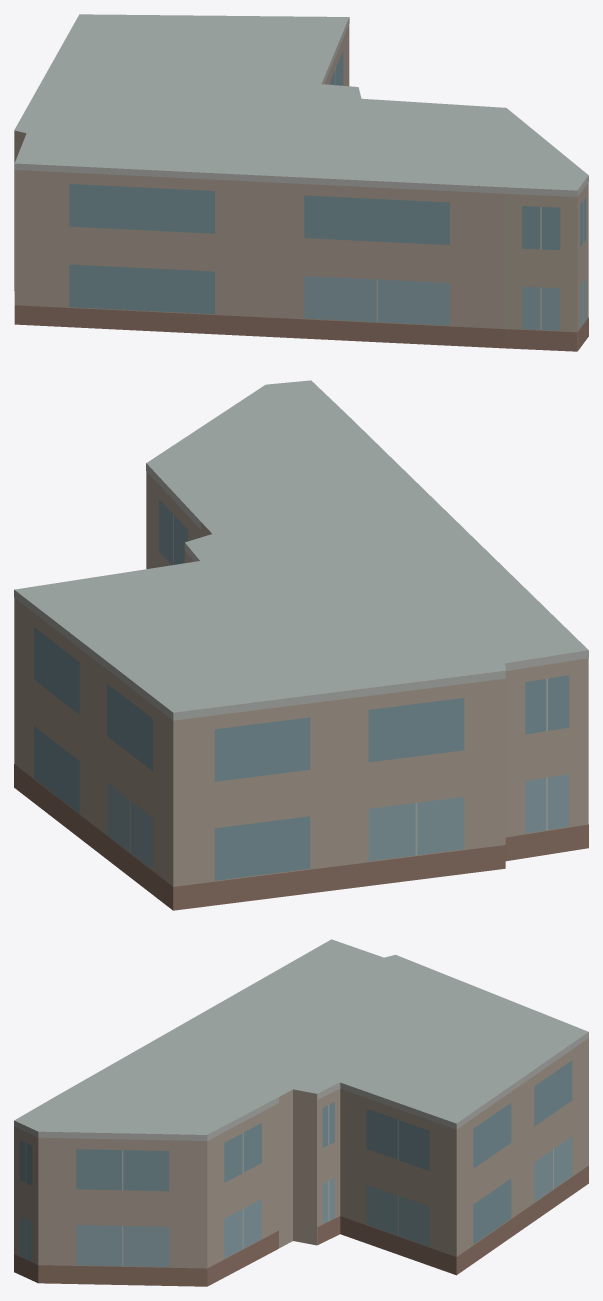
File: survey-upis-32719860.glb
The picture shows the model from 3 angles, top to bottom: view 1: azimuth 30°, elevation 25°; view 2: azimuth 150°, elevation 25°; view 3: azimuth 270°, elevation 25°; orthographic projection. The views are drawn at different scales.
Parts seen in each view (by area): view 1: survey-upis-32719860.tmp; view 2: survey-upis-32719860.tmp; view 3: survey-upis-32719860.tmp.
Boxes of the visible parts, left/top/right/bottom form: survey-upis-32719860.tmp: left=14, top=14, right=588, bottom=351; survey-upis-32719860.tmp: left=14, top=380, right=588, bottom=910; survey-upis-32719860.tmp: left=14, top=939, right=588, bottom=1286.
Size of the model in its own units: 16.9 by 6.1 by 20.97.
